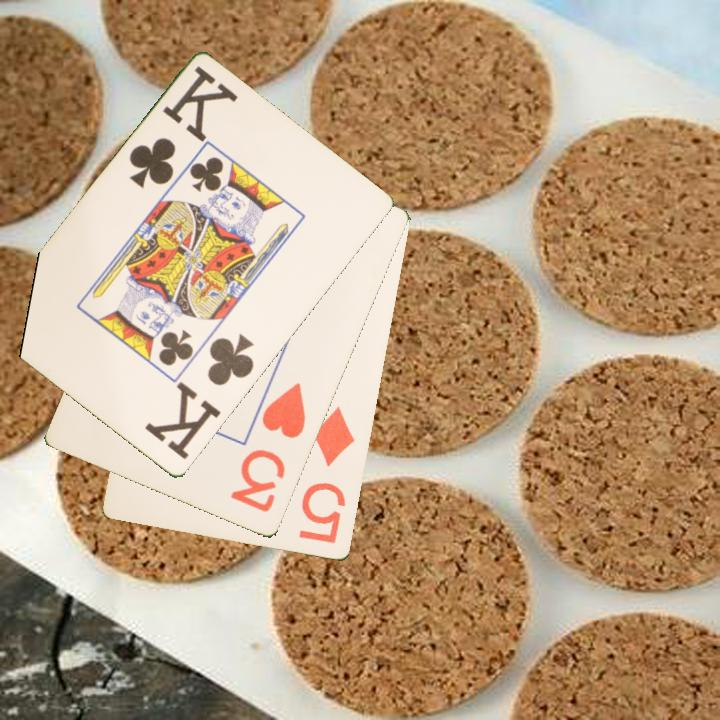3h: (227, 379, 309, 516)
5d: (296, 403, 359, 547)
Kc: (142, 330, 257, 463), (125, 63, 239, 192)
